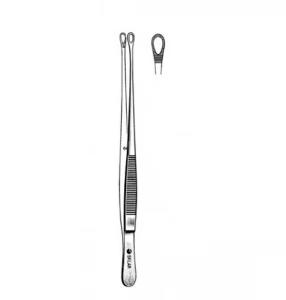Eye Intestinal Forceps: (113, 30, 148, 288)
